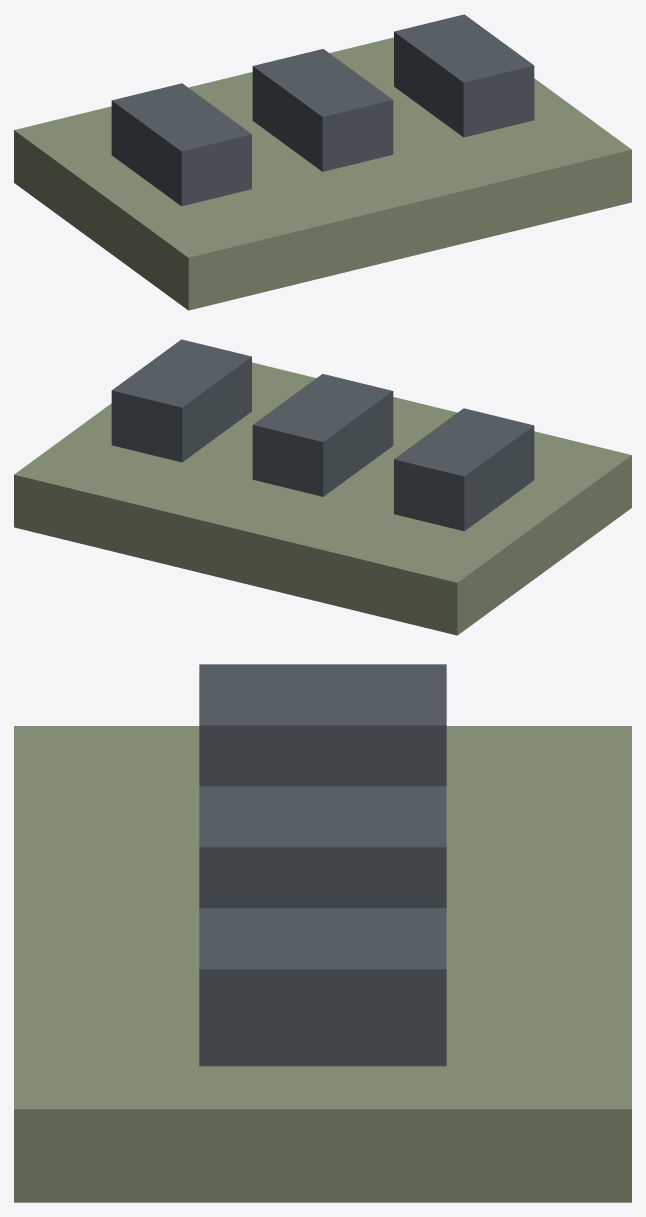
File: electronics.glb
3 views of the same model, one above another, from view 1: azimuth 30°, elevation 25°; view 2: azimuth 150°, elevation 25°; view 3: azimuth 270°, elevation 25° (orthographic). The views are drawn at different scales.
Visible parts, largest first — view 1: body; view 2: body; view 3: body.
Boxes of the visible parts, x1,y1,x2,y2 form: body: [14, 14, 631, 310]; body: [14, 339, 631, 635]; body: [14, 664, 631, 1202].
Bounding box in the file's own units: 0.22 × 0.052 × 0.15.
